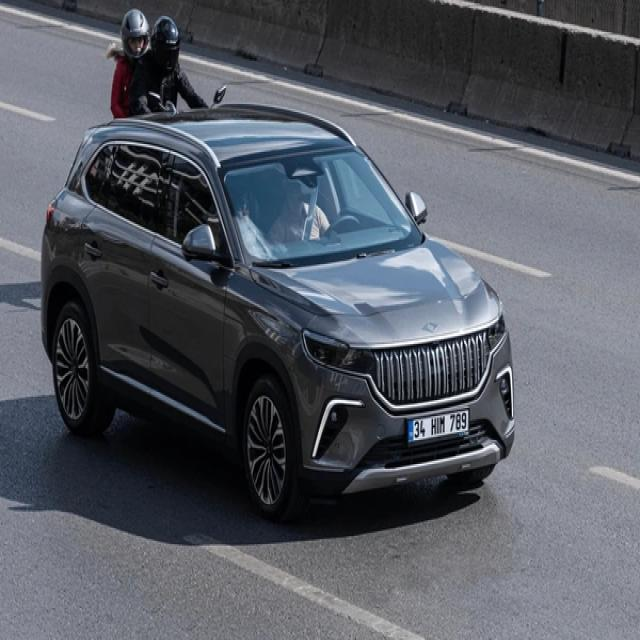togg: (421, 319, 440, 336)
